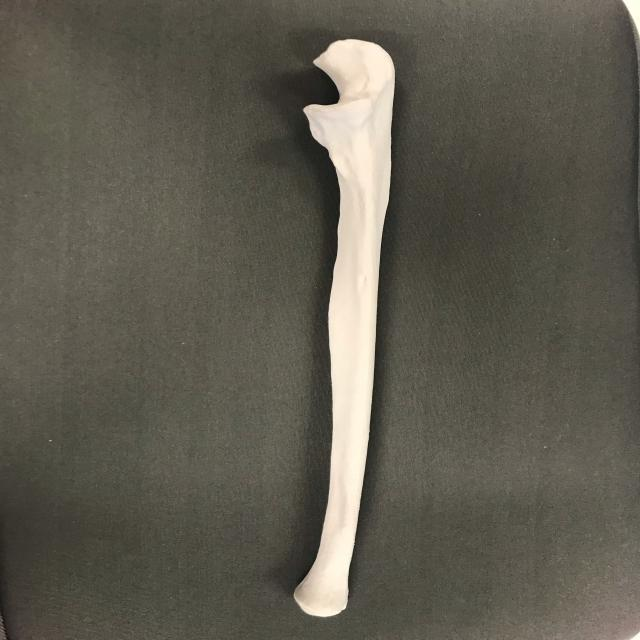bone: (273, 33, 408, 622)
